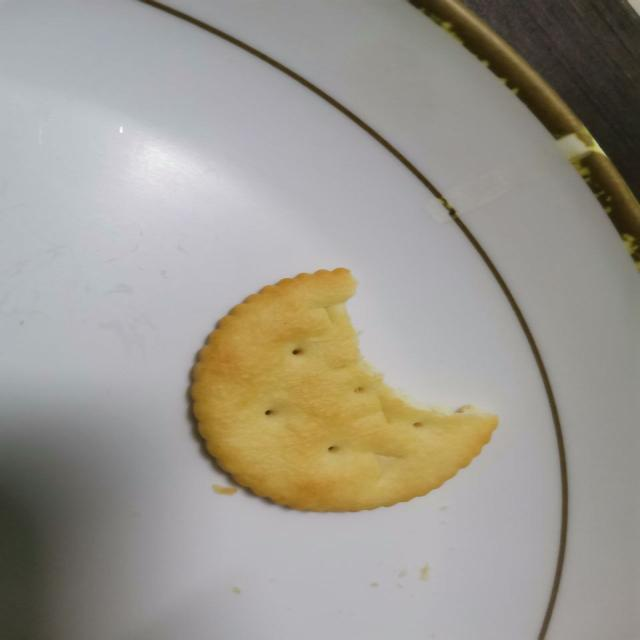broken biscuit: (187, 266, 499, 514)
